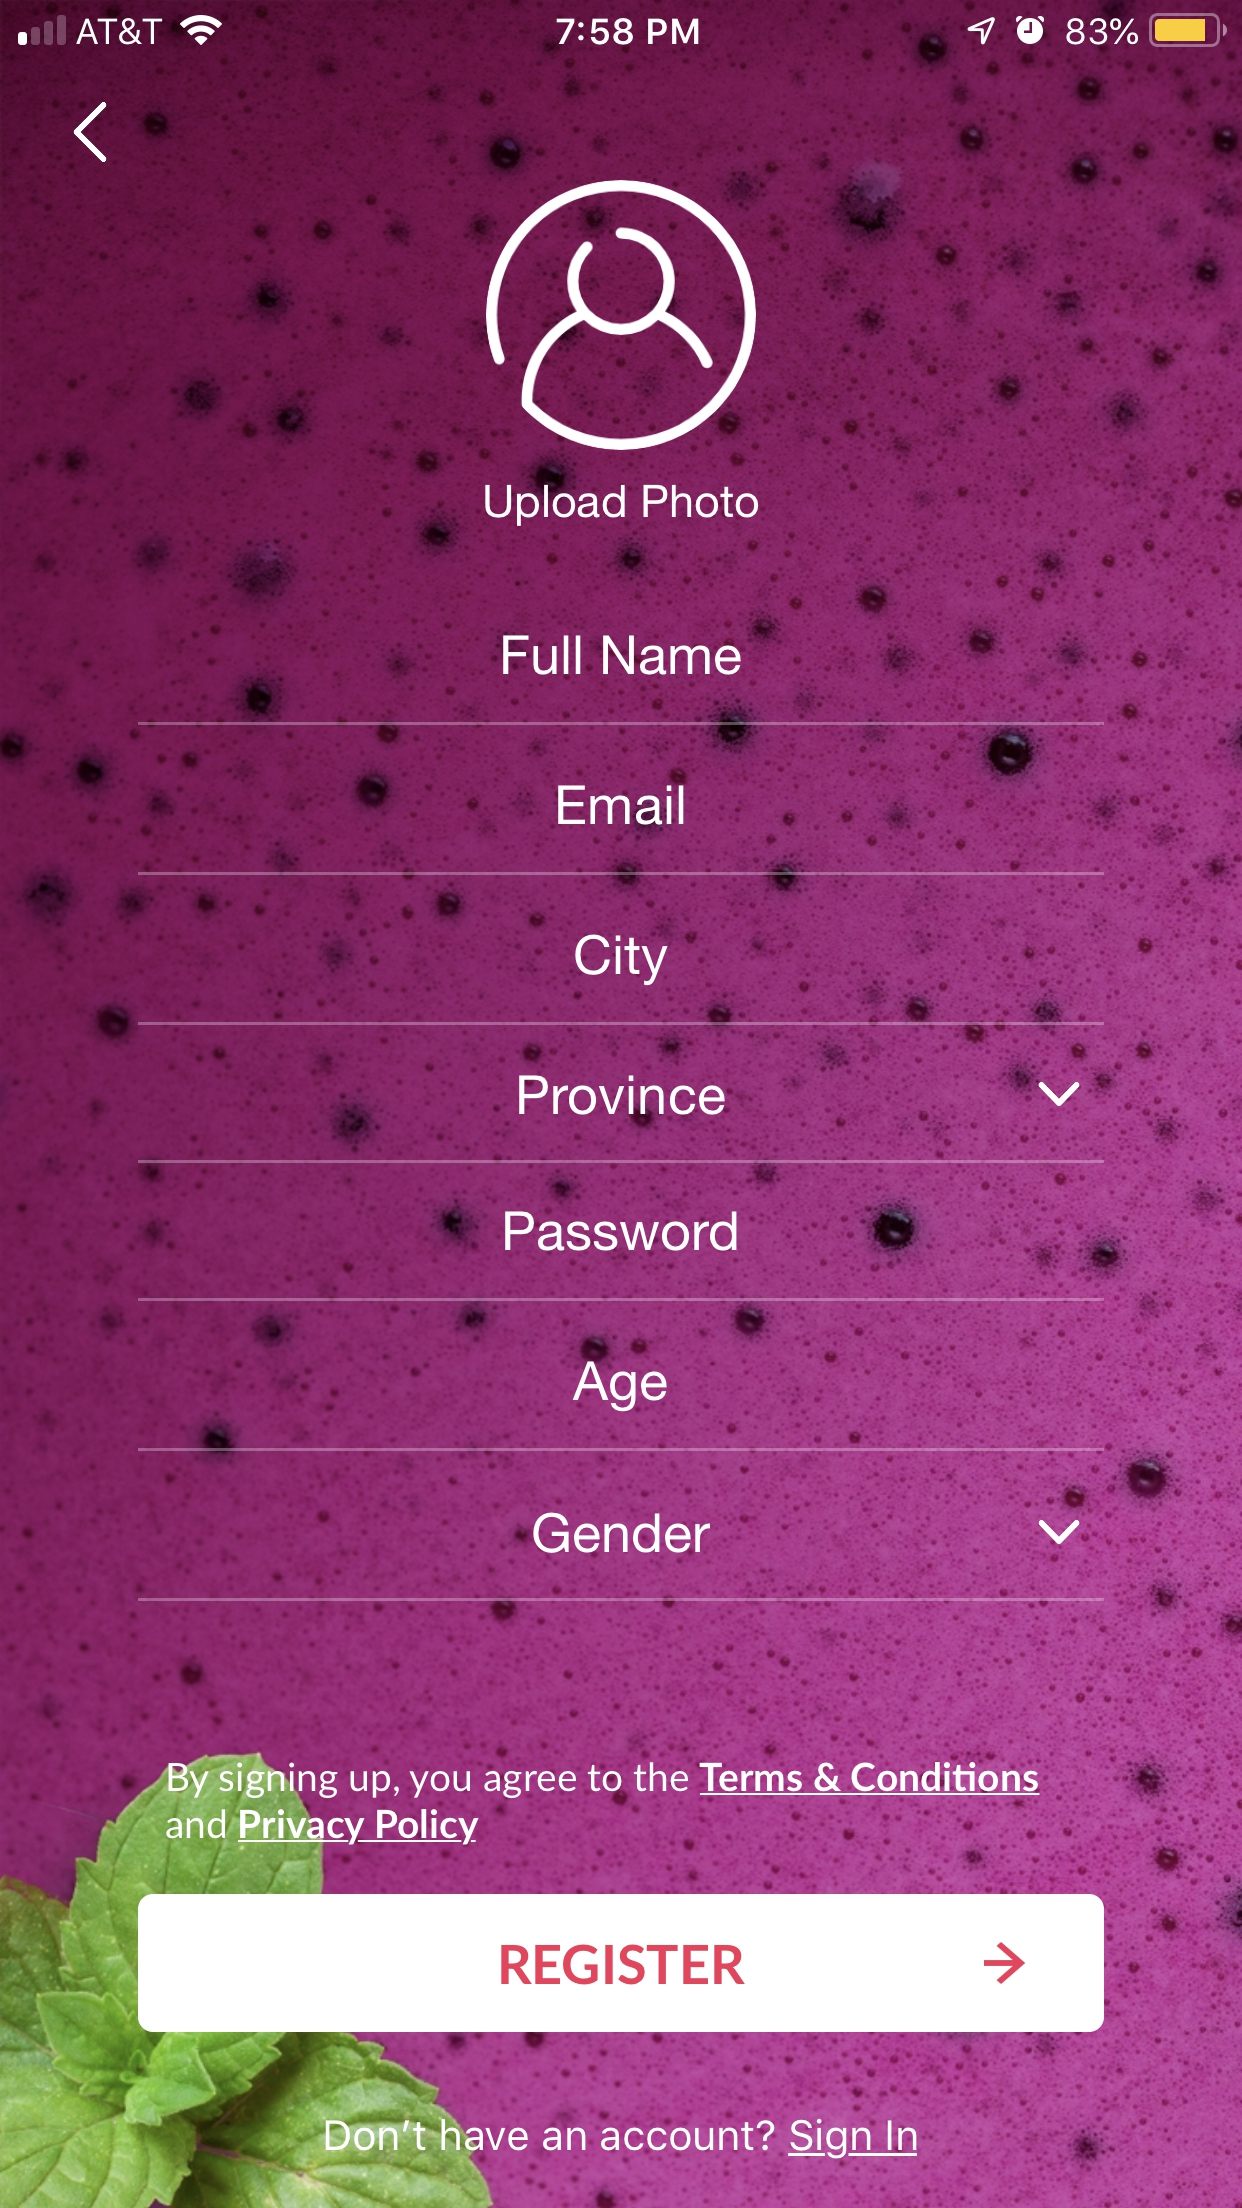BackgroundImage: (2, 49, 1242, 2208)
EditText: (138, 1359, 1106, 1451), (138, 1210, 1106, 1303), (138, 934, 1106, 1027), (138, 784, 1106, 877), (138, 634, 1106, 726), (138, 1510, 1106, 1601), (138, 1075, 1106, 1165)
Icon: (485, 179, 757, 452), (73, 102, 108, 164), (984, 1941, 1027, 1985), (1037, 1081, 1081, 1107), (1037, 1520, 1081, 1545)
Text: (164, 1761, 1040, 1846), (326, 2119, 917, 2159), (484, 485, 760, 528), (502, 634, 742, 676), (505, 1210, 739, 1253), (519, 1075, 726, 1118), (532, 1512, 711, 1554), (557, 786, 685, 826), (575, 934, 669, 987), (572, 1360, 667, 1412)
TextButton: (138, 1894, 1106, 2034)
UpperTaskBar: (2, 2, 1242, 49)
